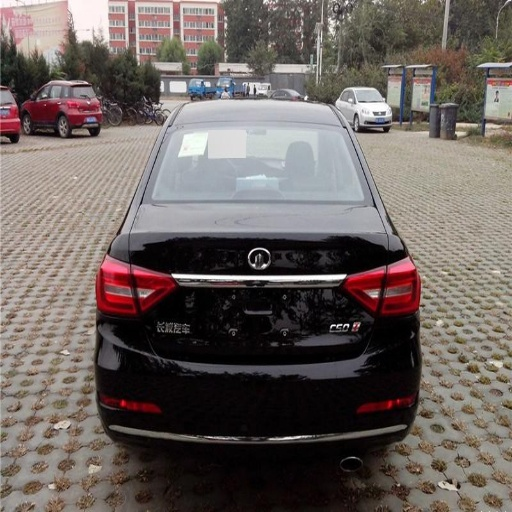back_bumper: (99, 308, 418, 464)
tailgate: (321, 204, 385, 246)
